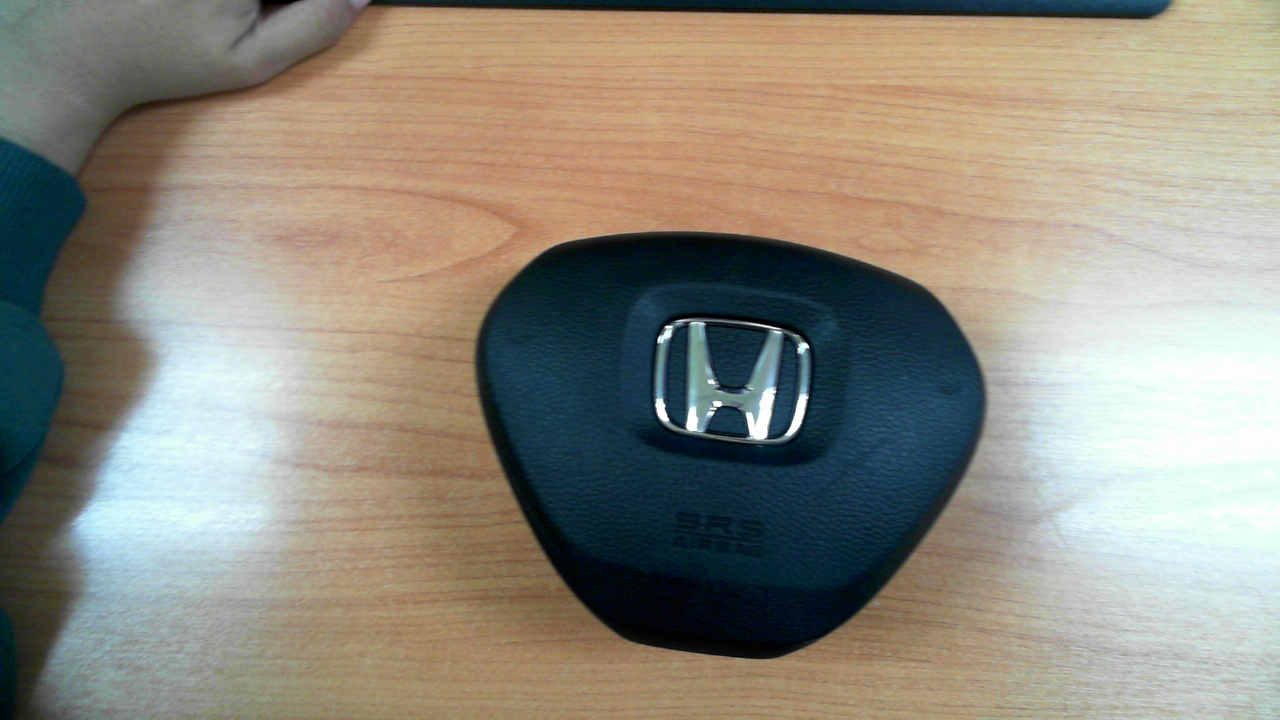Airbag: (474, 230, 988, 660)
Honda: (654, 317, 811, 444)
